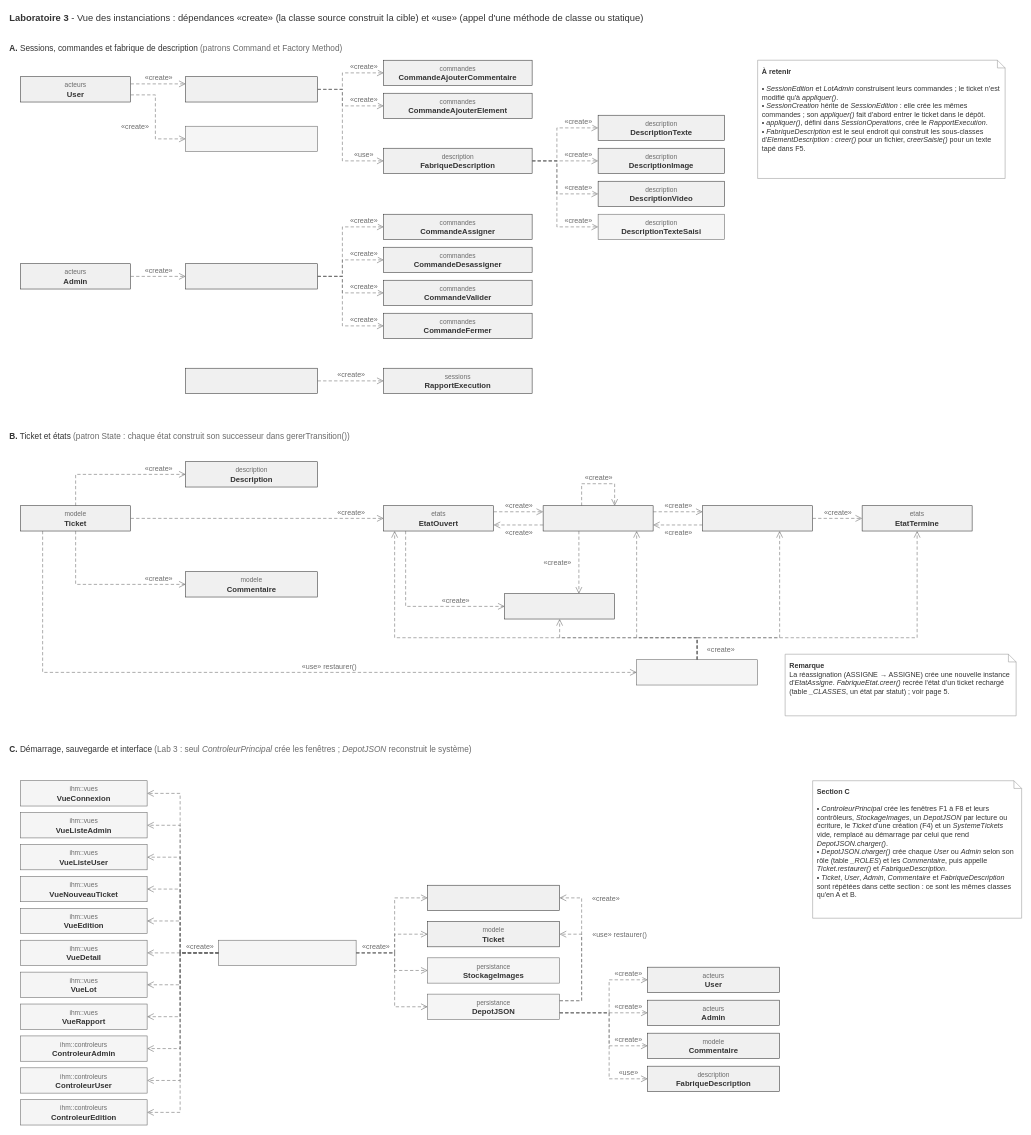
This 1031x1135 diagram has some shape labels left out. The centre of each missing label's shape, as x and y in pixels:
etats EtatAssigne: (598,518)
etats EtatFerme: (559,606)
etats EtatValidation: (757,518)
etats FabriqueEtat: (697,672)
ihm::controleurs ControleurPrincipal: (287,953)
modele SystemeTickets: (493,898)
sessions LotAdmin: (251,276)
sessions SessionCreation: (251,139)
sessions SessionEdition: (251,89)
sessions SessionOperations: (251,381)
